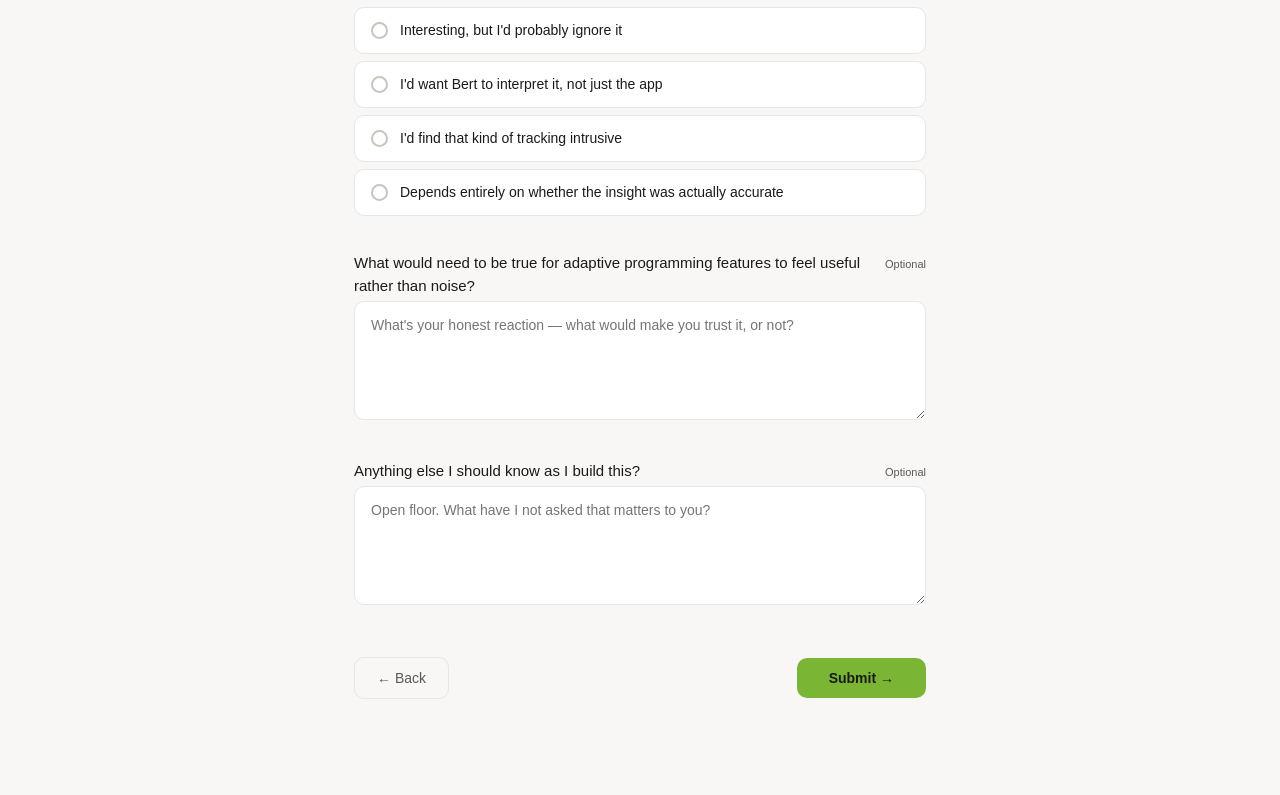
Test: submit handler › shows thank-you screen on successful submission
The image size is (1280, 795).
(page scrolled)
Click the button "Submit →": click(861, 678) [797, 658, 926, 698]
(page scrolled)
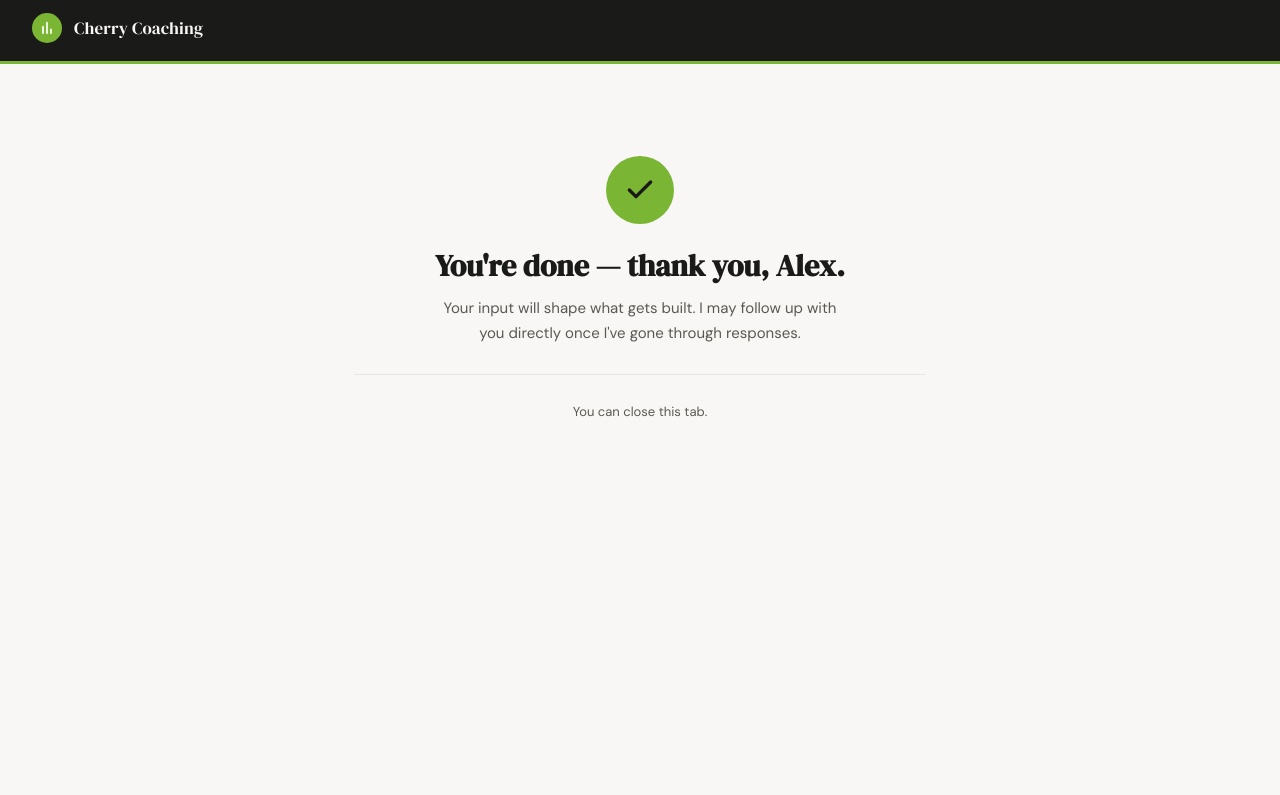
Result: the heading "You're done — thank you, Alex." is shown at [435, 245, 845, 286]
